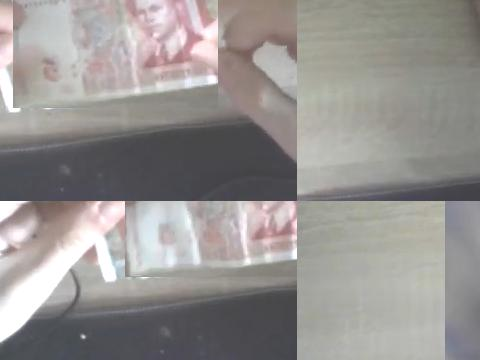5leva: (13, 0, 218, 108), (125, 201, 297, 277)
